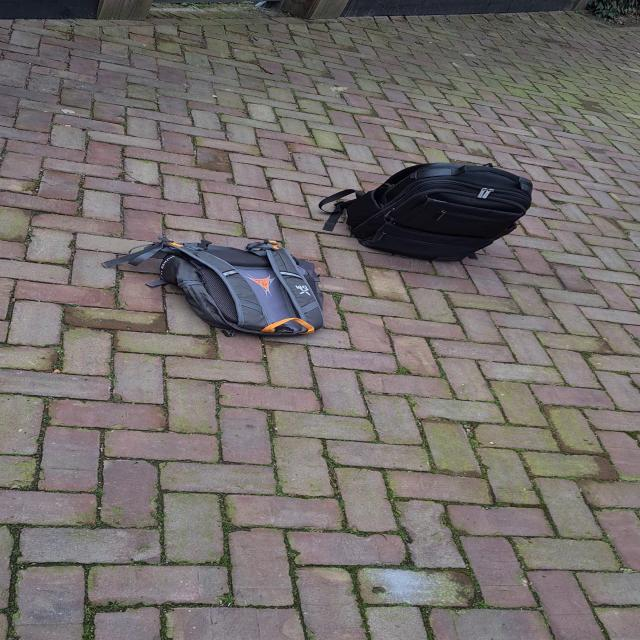backpack: (332, 157, 540, 264), (140, 234, 330, 338)
